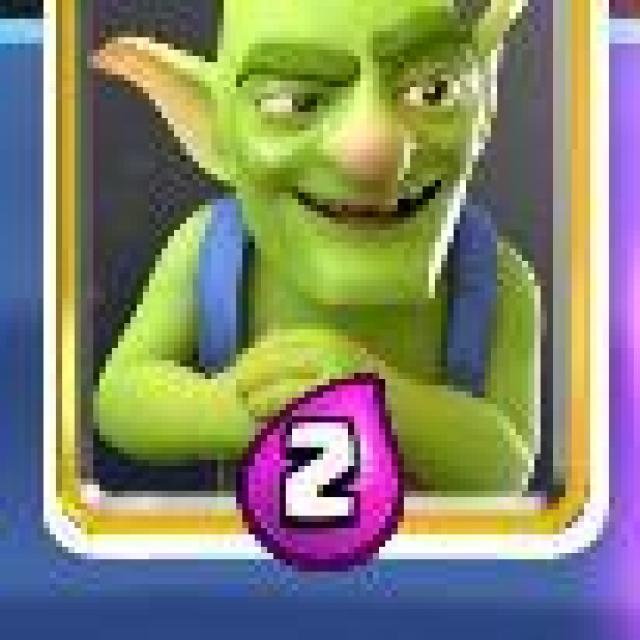Goblins: (43, 0, 619, 563)
